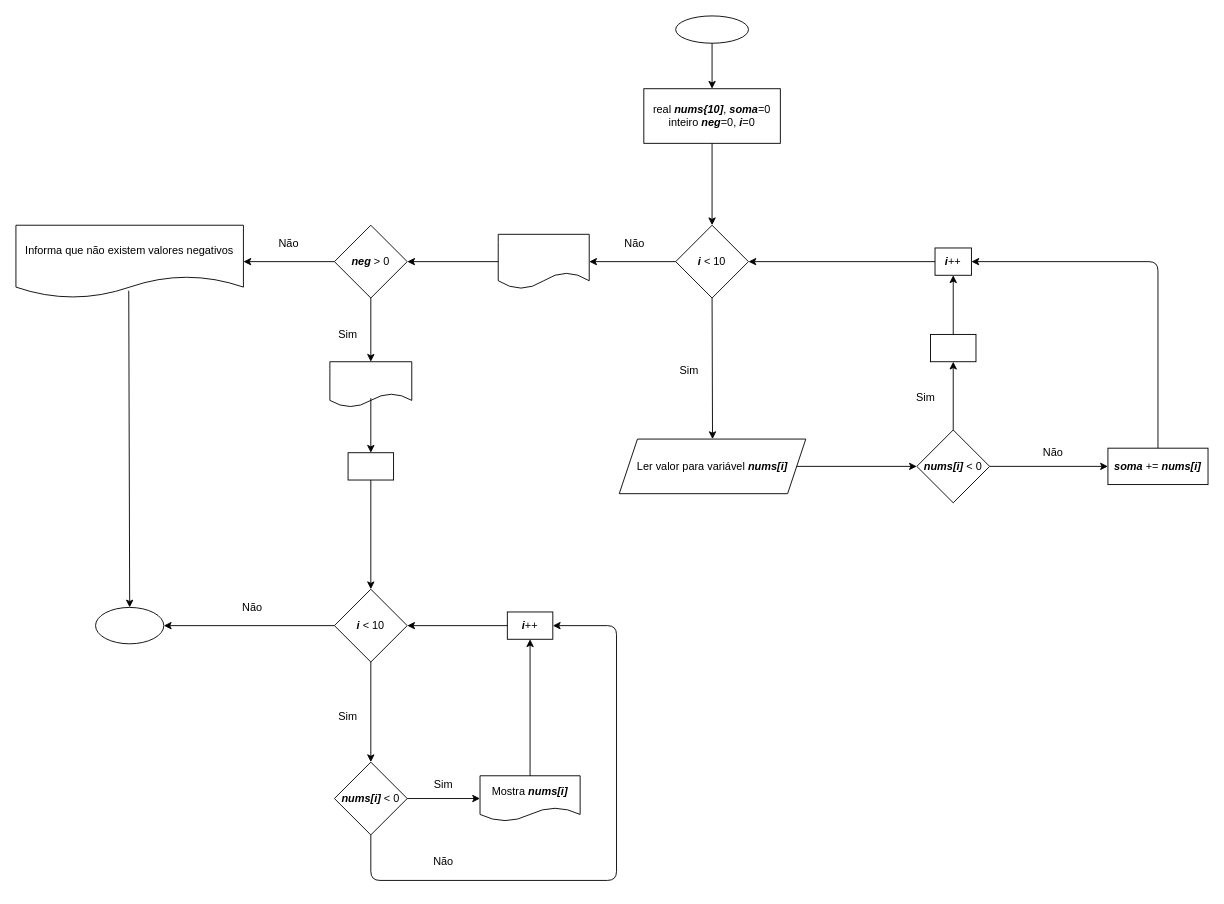
Image size: 1224x904. Some labels were removed from this diagram. Here are the shapes that lost their labels. From the top down, the box of each, then its label:
(675, 15, 748, 43): INÍCIO
(497, 233, 589, 289): Mostra soma
(930, 334, 976, 362): neg ++
(329, 361, 412, 407): Mostra neg
(347, 452, 394, 480): i = 0
(95, 607, 164, 644): FIM
